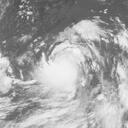cyclone: (35, 45, 83, 92)
